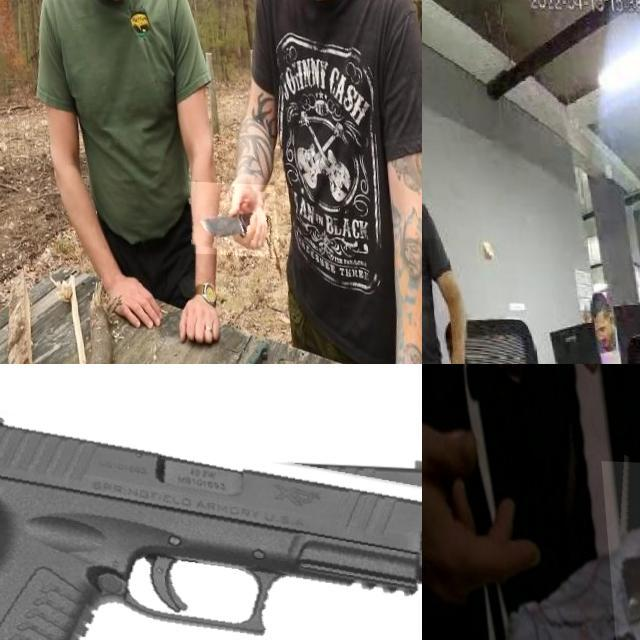-: (181, 179, 272, 254)
gun-knife-thesis - v11 Yolov5 augmented: (0, 409, 422, 640)
